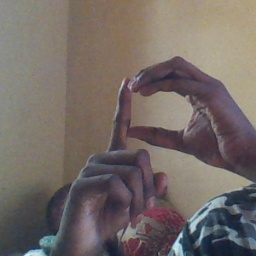P: (66, 51, 212, 226)
